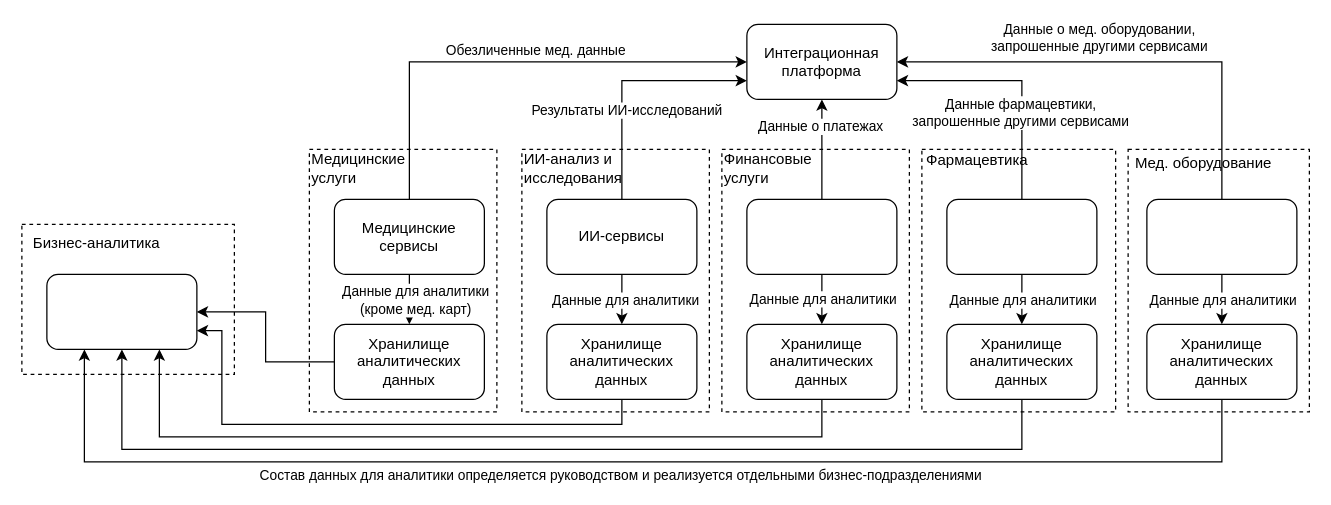
The diagram is 1331 pixels wide and 505 high, and some of its shapes have lost their labels. The centre of each missing label's shape, as x and y in pixels:
Витрина данных: the point at 121,311
Сервисы компании мед. оборудования: the point at 1221,236
Сервисы фармацевтики: the point at 1021,236
Финтех-сервисы: the point at 821,236
